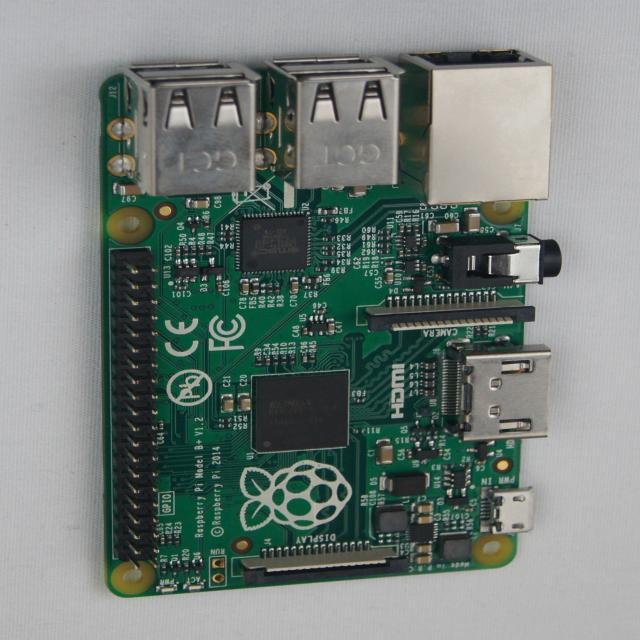Raspberry Pi 1 B-: (101, 51, 562, 597)
